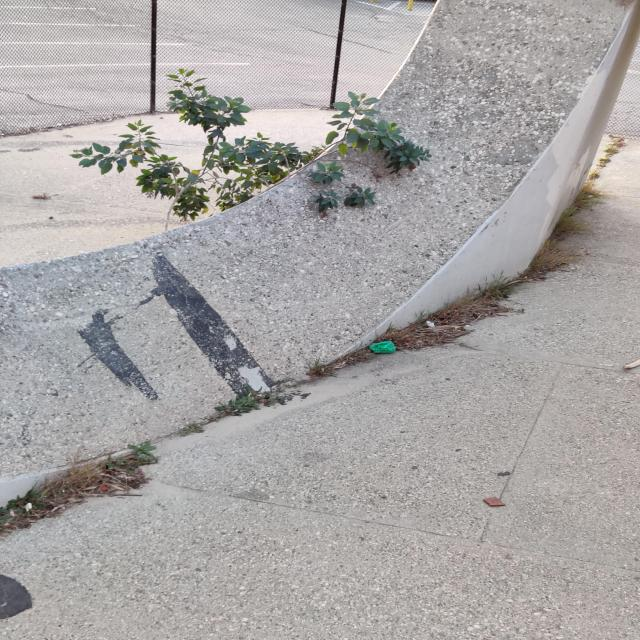litter: (369, 342, 399, 354)
